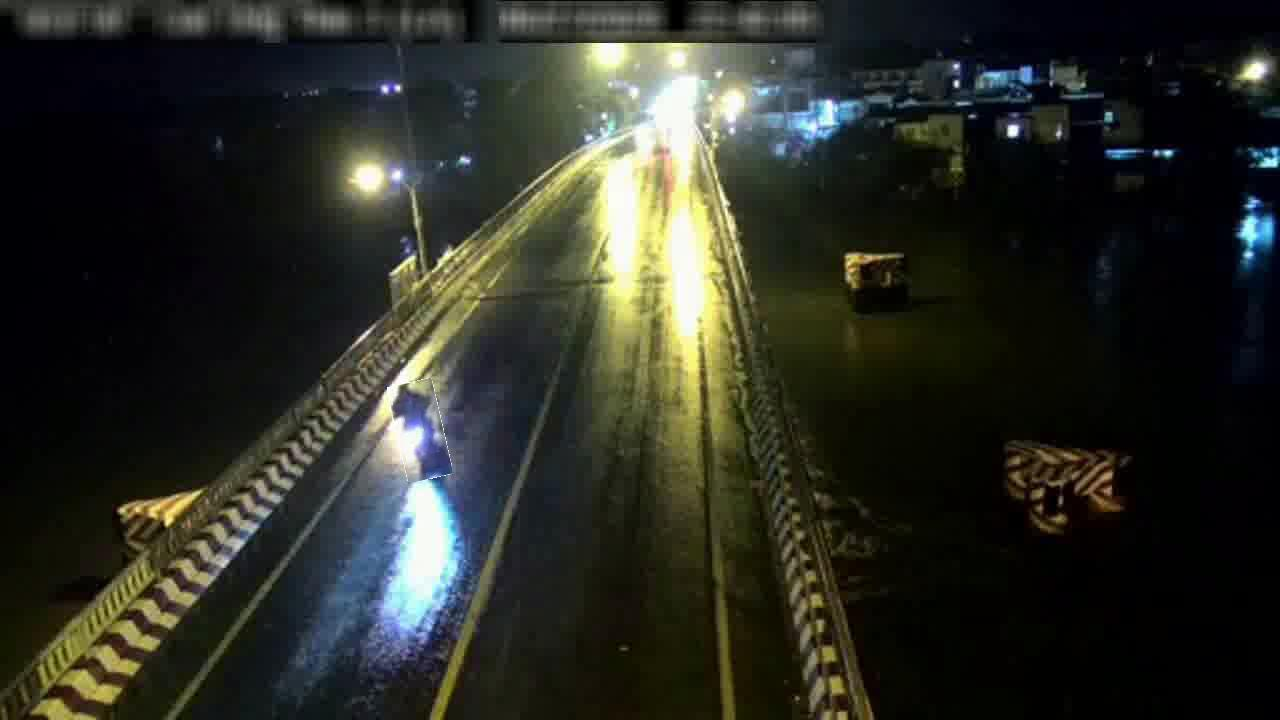motorbike: (392, 380, 448, 482)
